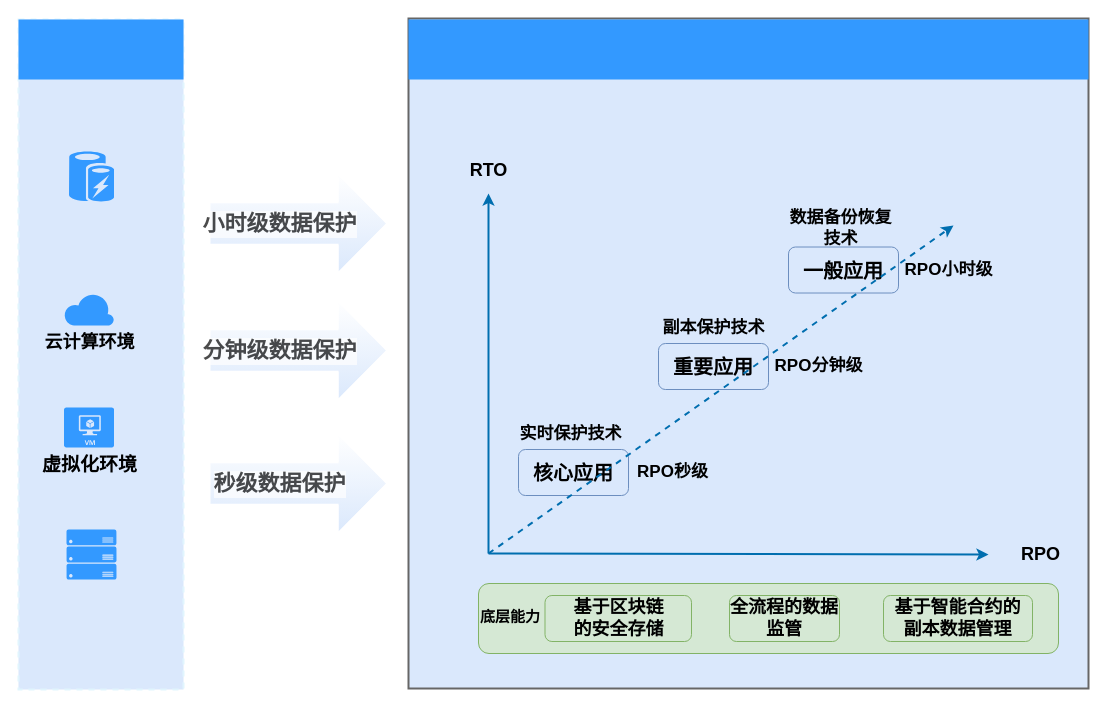
Some shapes in this 1110 by 707 pixel diagram are drawn without their labels. The centre of each missing label's shape, as x and y in pixels:
保护对象: [100,49]
保护能力: [748,49]
大数据环境: [91,176]
物理机环境: [91,554]
